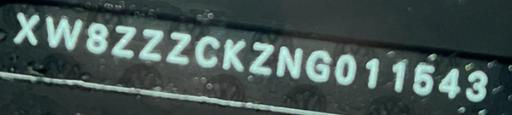letter: (44, 14, 84, 52), (12, 9, 42, 46), (246, 40, 276, 77), (304, 47, 334, 84), (274, 45, 304, 80), (165, 30, 193, 67), (220, 36, 248, 73), (411, 61, 437, 99), (136, 27, 164, 62), (193, 33, 221, 68), (110, 22, 136, 59), (463, 67, 487, 103), (85, 20, 109, 55), (333, 51, 357, 86), (438, 66, 462, 100), (388, 58, 408, 97), (362, 56, 382, 91)
